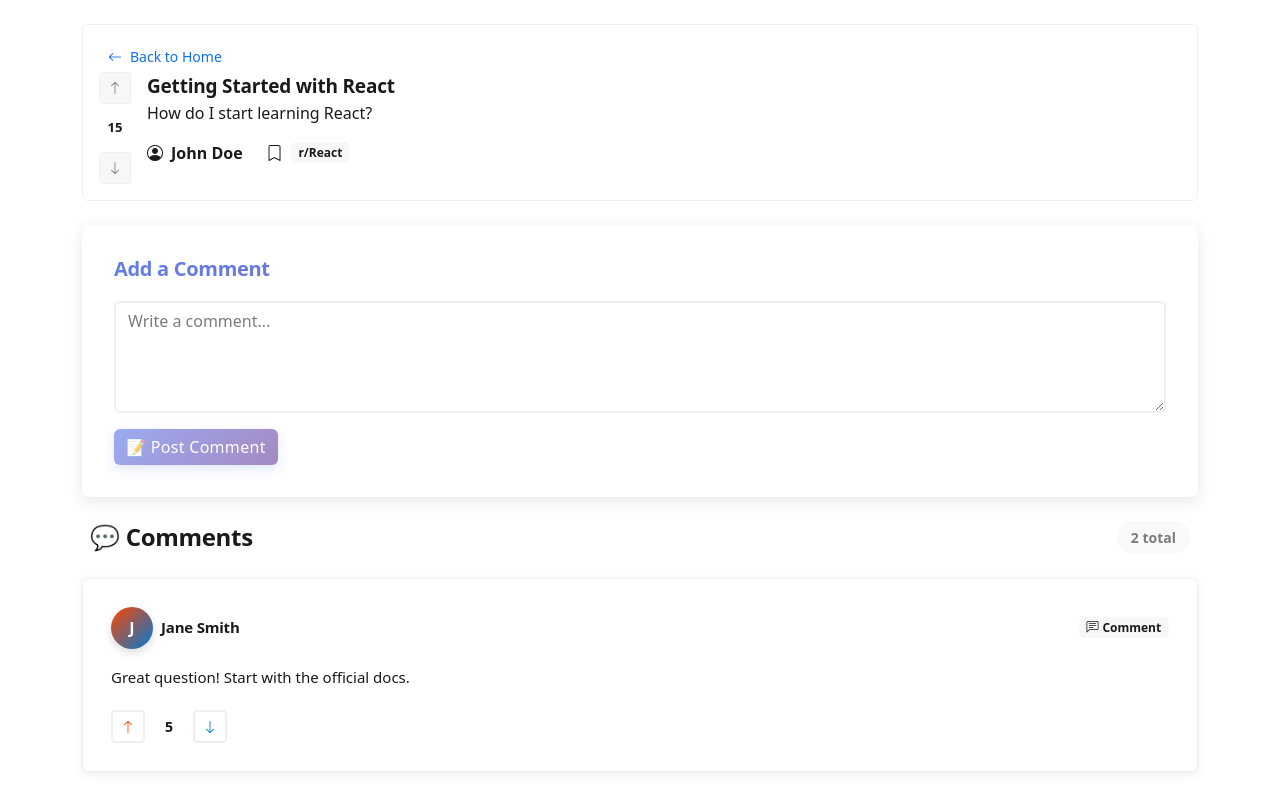
Test: Comment UI workflow › upvotes and downvotes the selected comment using server-returned counts
Expected: the text with class "comment-vote-count" reads "5", [165,717,173,736]
Click the button named "Upvote": (128, 726) [111,710,145,743]
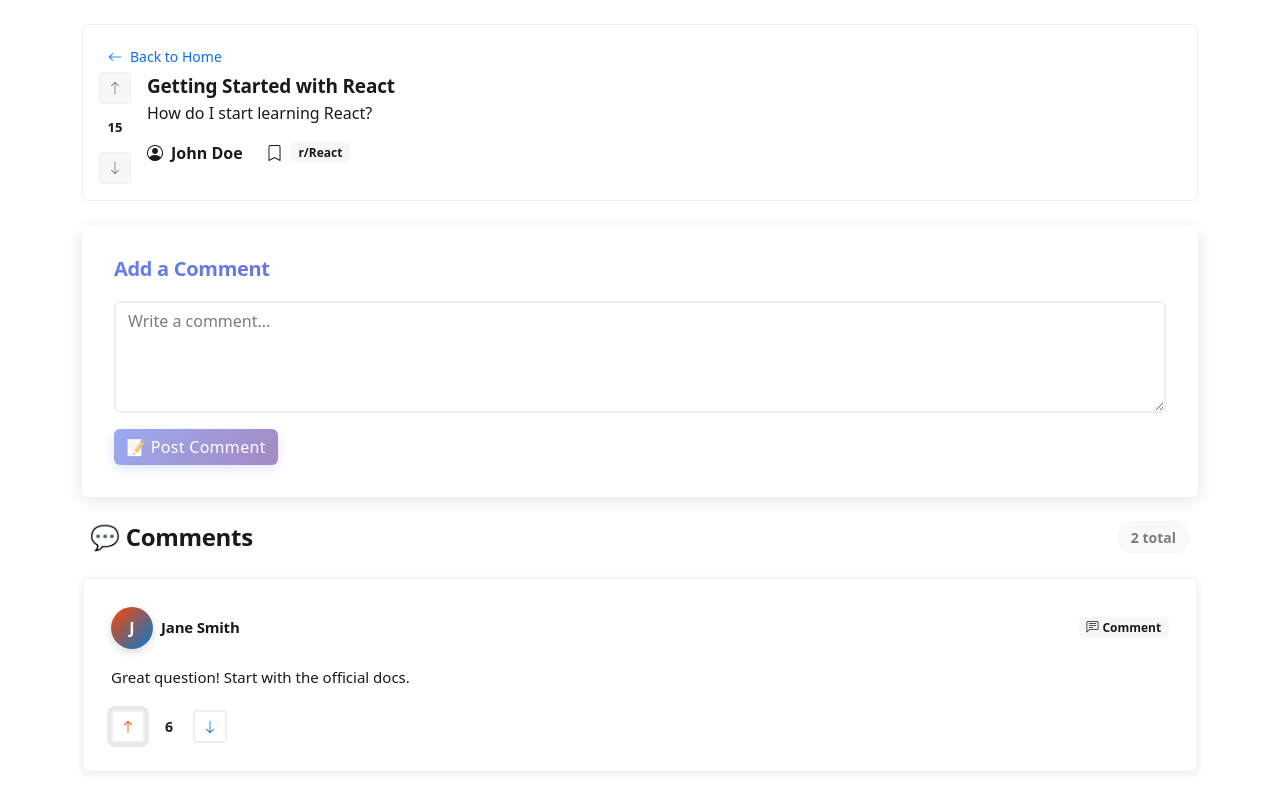
Expected: the text with class "comment-vote-count" reads "6", [165,717,173,736]
Click the button named "Downvote": (210, 726) [193,710,227,743]
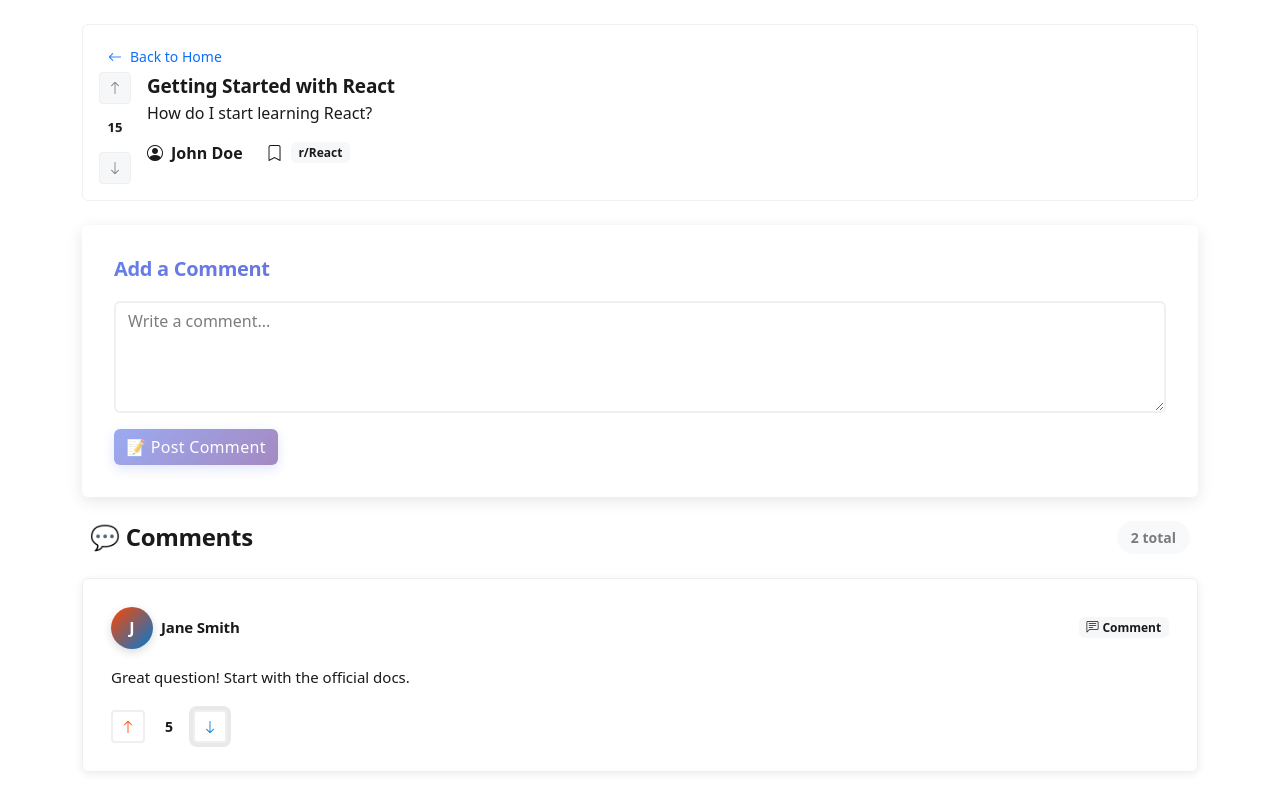
Expected: the text with class "comment-vote-count" reads "5", [165,717,173,736]
